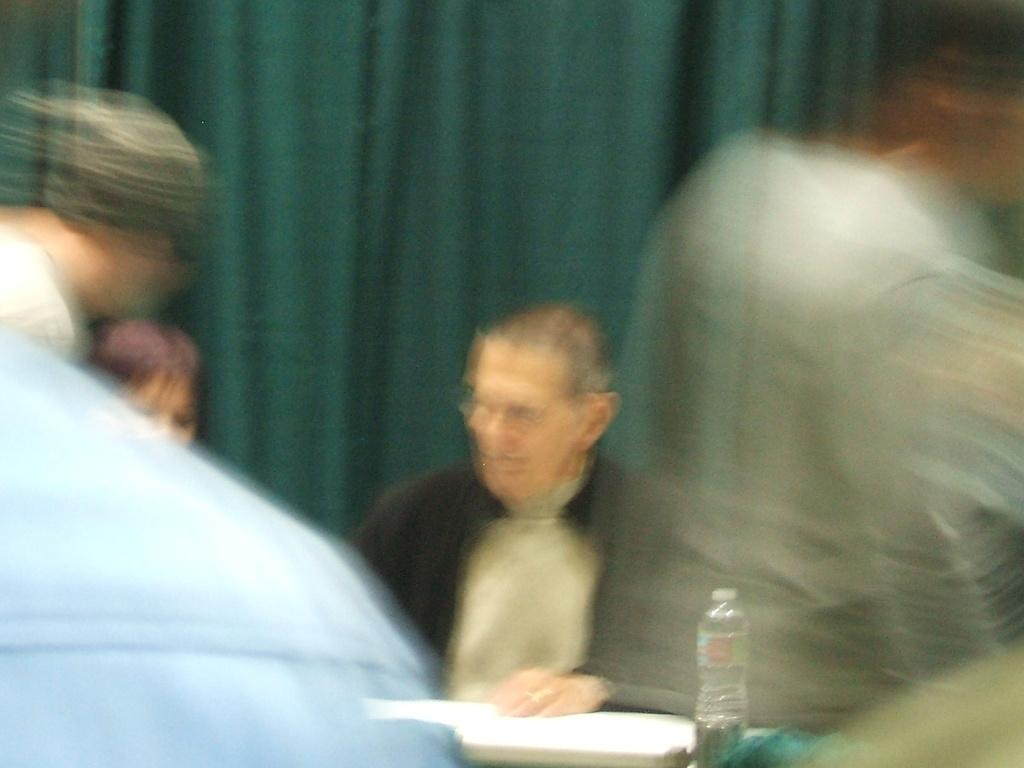Sem Máscara: (459, 336, 577, 515), (116, 366, 190, 449)
